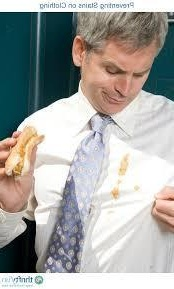mustard: (115, 147, 133, 181), (113, 187, 123, 200), (134, 184, 139, 190)
